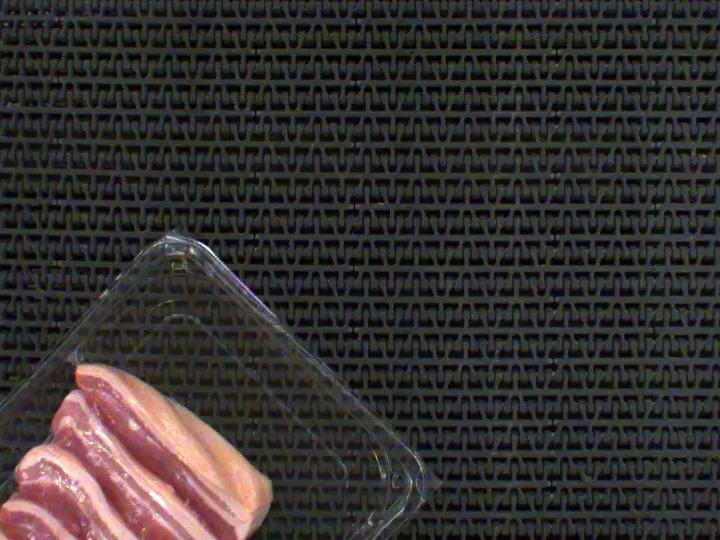packaging-error: (58, 342, 87, 369)
